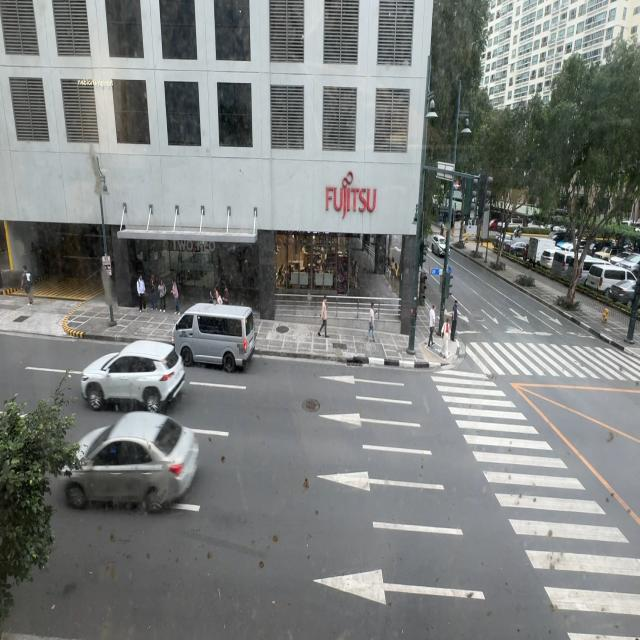pedestrain: (363, 301, 376, 342), (22, 265, 34, 305), (136, 274, 146, 312), (171, 280, 180, 314), (158, 278, 166, 312), (214, 287, 223, 305)
waiting: (442, 317, 451, 363), (450, 299, 459, 343), (441, 320, 451, 358), (428, 304, 436, 348), (149, 275, 158, 311)
